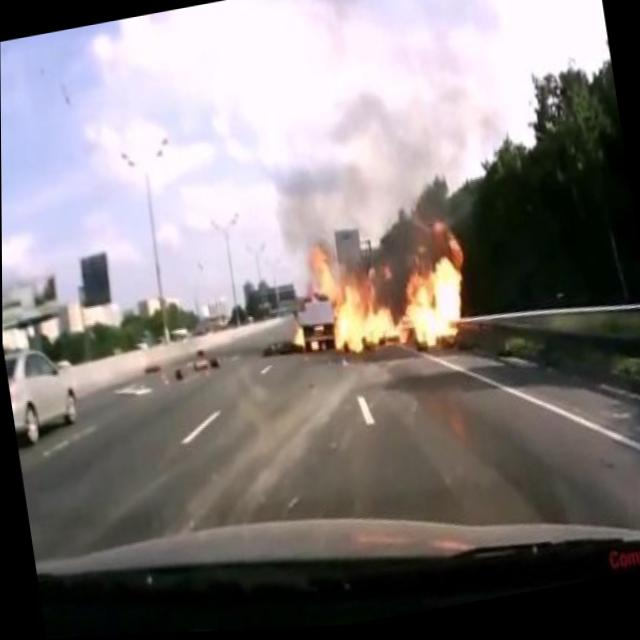fire: (310, 217, 478, 377), (287, 321, 310, 359)
